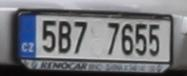5: (43, 20, 56, 52), (149, 24, 160, 56), (136, 24, 147, 55)
6: (122, 23, 133, 55)
7: (74, 22, 87, 54), (108, 23, 120, 55)
B: (59, 21, 71, 53)
